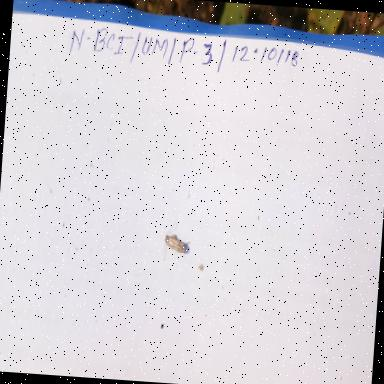pbw: (159, 216, 192, 262)
